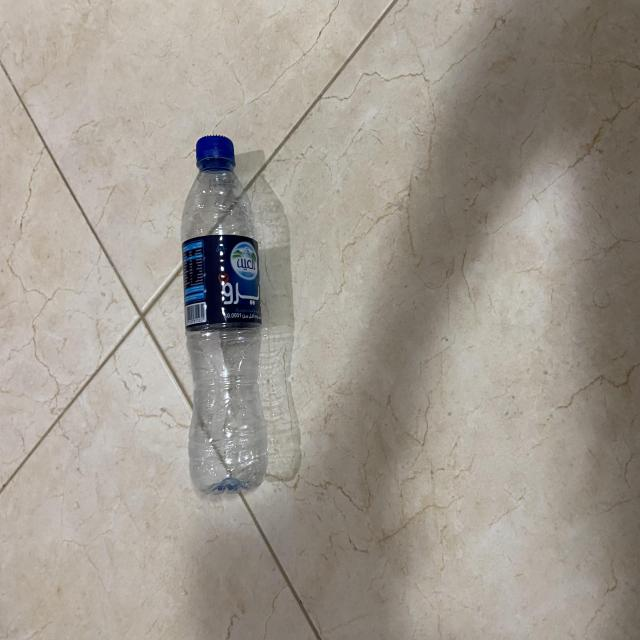plastic: (179, 131, 269, 500)
